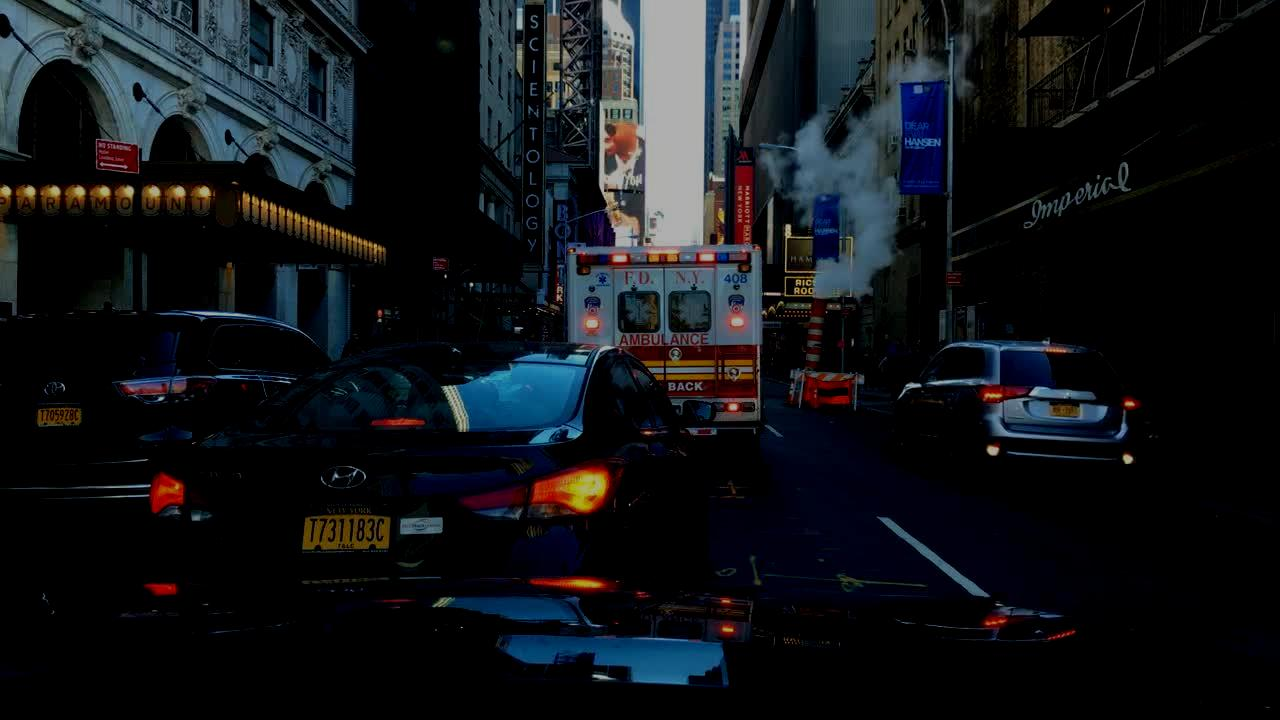Hyundai: (313, 458, 370, 496)
